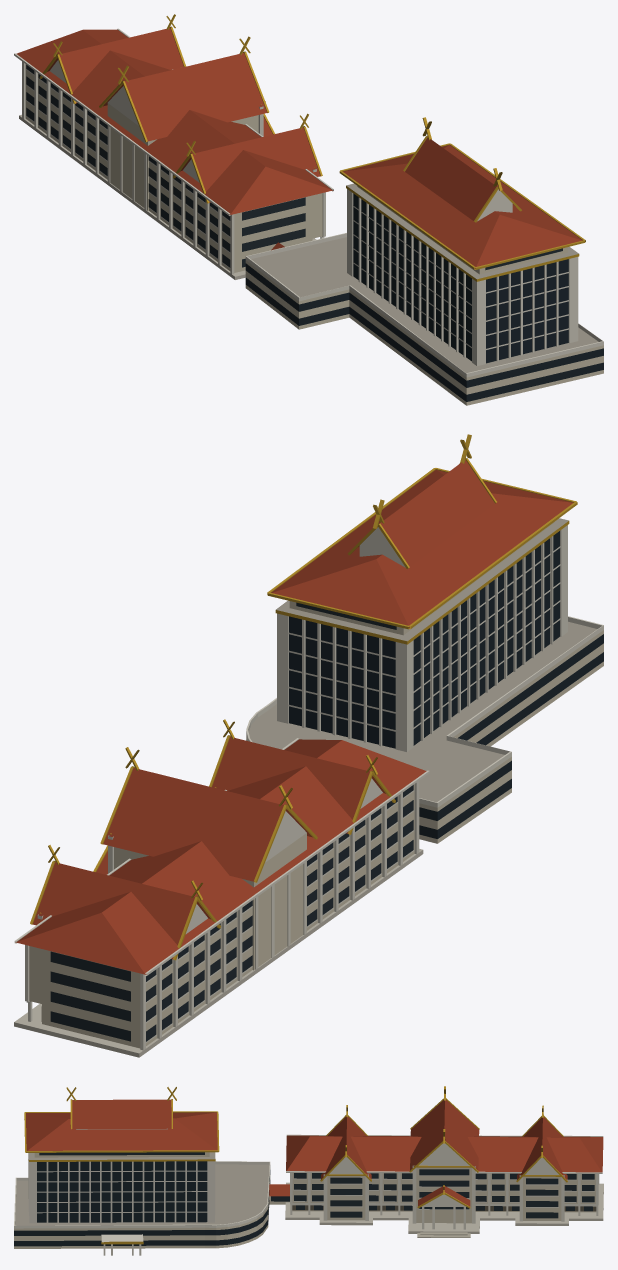
The model's file is kantor-gubernur-riau-lod0.glb.
3 renders of one model, top to bottom at view 1: azimuth 30°, elevation 25°; view 2: azimuth 150°, elevation 25°; view 3: azimuth 270°, elevation 25°, orthographic. The views are drawn at different scales.
Visible parts, largest first — view 1: kantor-gubernur-riau_LOD0; view 2: kantor-gubernur-riau_LOD0; view 3: kantor-gubernur-riau_LOD0.
Part boxes in pixels (x1,y1,x2,y2): kantor-gubernur-riau_LOD0: (14,14,603,405); kantor-gubernur-riau_LOD0: (14,434,603,1057); kantor-gubernur-riau_LOD0: (14,1086,603,1255).
Size of the model in its own units: 58.81 by 51.2 by 198.
